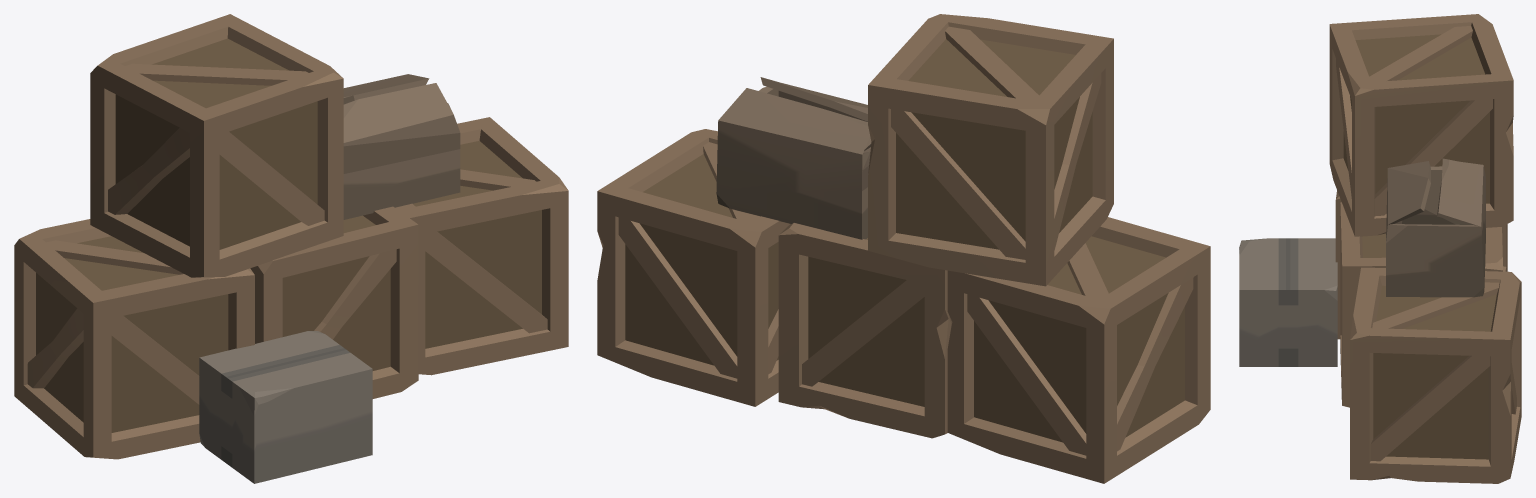
Rendered from SM_Prop_Crate_Wall_01.obj.
3 views of the same model, side by side, from view 1: azimuth 30°, elevation 25°; view 2: azimuth 150°, elevation 25°; view 3: azimuth 270°, elevation 25° (orthographic). The views are drawn at different scales.
Parts seen in each view (by area): view 1: SM_Prop_Crate_Wall_01_0; view 2: SM_Prop_Crate_Wall_01_0; view 3: SM_Prop_Crate_Wall_01_0.
Boxes of the visible parts, x1,y1,x2,y2 form: SM_Prop_Crate_Wall_01_0: [14, 14, 568, 483]; SM_Prop_Crate_Wall_01_0: [597, 14, 1210, 483]; SM_Prop_Crate_Wall_01_0: [1239, 14, 1521, 483].
Size of the model in its own units: 2.62 by 1.68 by 1.47.
Materials: 1 (1 with a texture image).
